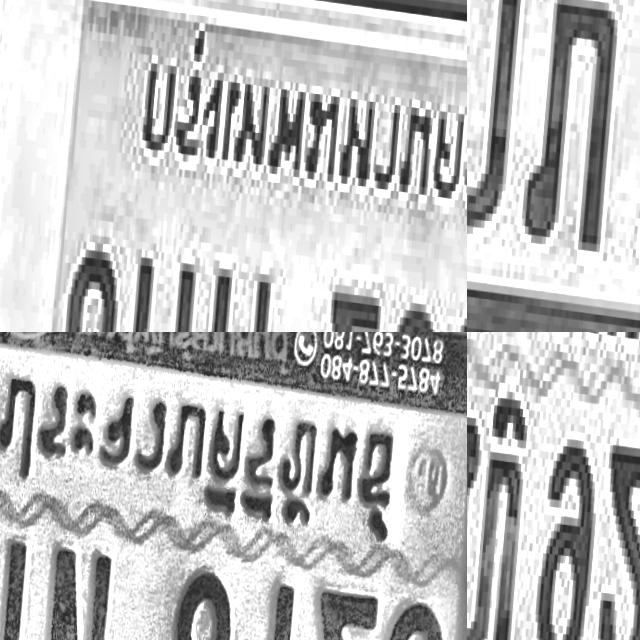license-plate: (0, 0, 467, 332), (0, 332, 467, 640), (467, 0, 640, 332), (467, 332, 640, 640)
